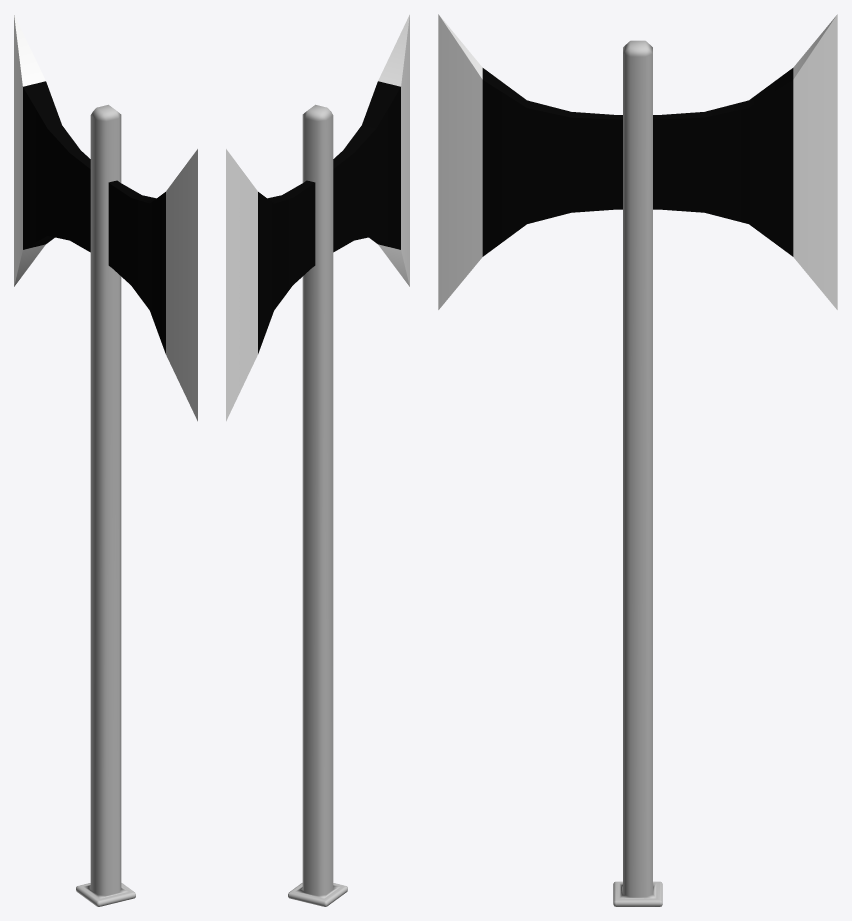
File: Axe.fbx
3 views of the same model, side by side, from view 1: azimuth 30°, elevation 25°; view 2: azimuth 150°, elevation 25°; view 3: azimuth 270°, elevation 25° (orthographic). The views are drawn at different scales.
Parts seen in each view (by area): view 1: Blade, Grip; view 2: Blade, Grip; view 3: Blade, Grip.
Boxes of the visible parts, box(x1,y1,x2,y2) form: Blade: box(14, 14, 197, 421); Grip: box(76, 104, 135, 906); Blade: box(226, 14, 409, 421); Grip: box(288, 104, 347, 906); Blade: box(438, 14, 837, 309); Grip: box(613, 40, 662, 906).
Bounding box in the file's own units: 14.67 × 289 × 118.
